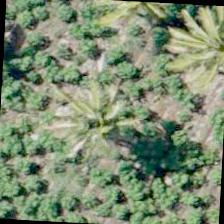Kelapa_Sawit: (40, 65, 134, 160), (122, 148, 217, 223), (158, 22, 223, 116)
